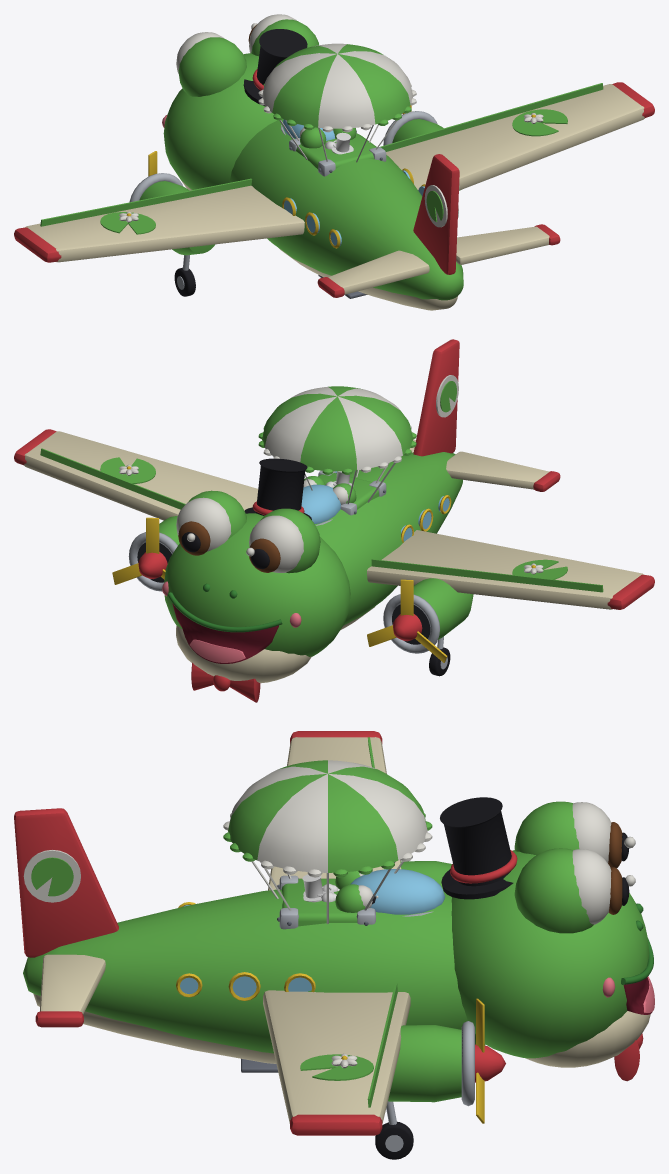
The model's file is MathMoney_FrogPlane.fbx.
The picture shows the model from 3 angles, top to bottom: view 1: azimuth 30°, elevation 25°; view 2: azimuth 150°, elevation 25°; view 3: azimuth 270°, elevation 25°; orthographic projection. The views are drawn at different scales.
Visible parts, largest first — view 1: FrogPlane__Wings, FrogPlane__Fuselage, FrogPlane__Head, Parachute__Canopy, FrogPlane__Engines, FrogSafe__Body; view 2: FrogPlane__Head, FrogPlane__Wings, FrogPlane__Fuselage, Parachute__Canopy, FrogPlane__Engines, FrogPlane__PropLeft, FrogPlane__PropRight, FrogSafe__Body; view 3: FrogPlane__Head, FrogPlane__Fuselage, FrogPlane__Wings, Parachute__Canopy, FrogPlane__Engines, FrogSafe__Body, FrogPlane__PropRight, GoldenFrogStatue__Statue.
Part boxes in pixels (bbox=[...]): FrogPlane__Wings: bbox=[14, 82, 654, 297]; FrogPlane__Fuselage: bbox=[229, 119, 463, 310]; FrogPlane__Head: bbox=[162, 14, 318, 190]; Parachute__Canopy: bbox=[258, 43, 416, 132]; FrogPlane__Engines: bbox=[129, 111, 460, 296]; FrogSafe__Body: bbox=[289, 127, 386, 176]; FrogPlane__Head: bbox=[162, 458, 350, 702]; FrogPlane__Wings: bbox=[14, 339, 654, 609]; FrogPlane__Fuselage: bbox=[301, 452, 462, 630]; Parachute__Canopy: bbox=[258, 386, 416, 474]; FrogPlane__Engines: bbox=[128, 516, 473, 676]; FrogPlane__PropLeft: bbox=[367, 579, 447, 662]; FrogPlane__PropRight: bbox=[112, 517, 167, 584]; FrogSafe__Body: bbox=[303, 470, 386, 515]; FrogPlane__Head: bbox=[440, 797, 654, 1081]; FrogPlane__Fuselage: bbox=[23, 869, 485, 1072]; FrogPlane__Wings: bbox=[14, 731, 410, 1135]; Parachute__Canopy: bbox=[223, 760, 432, 877]; FrogPlane__Engines: bbox=[375, 861, 474, 1159]; FrogSafe__Body: bbox=[277, 871, 378, 929]; FrogPlane__PropRight: bbox=[475, 998, 505, 1123]; GoldenFrogStatue__Statue: bbox=[302, 874, 339, 902].
Bounding box in the file's own units: 50.41 × 18.04 × 34.68.
